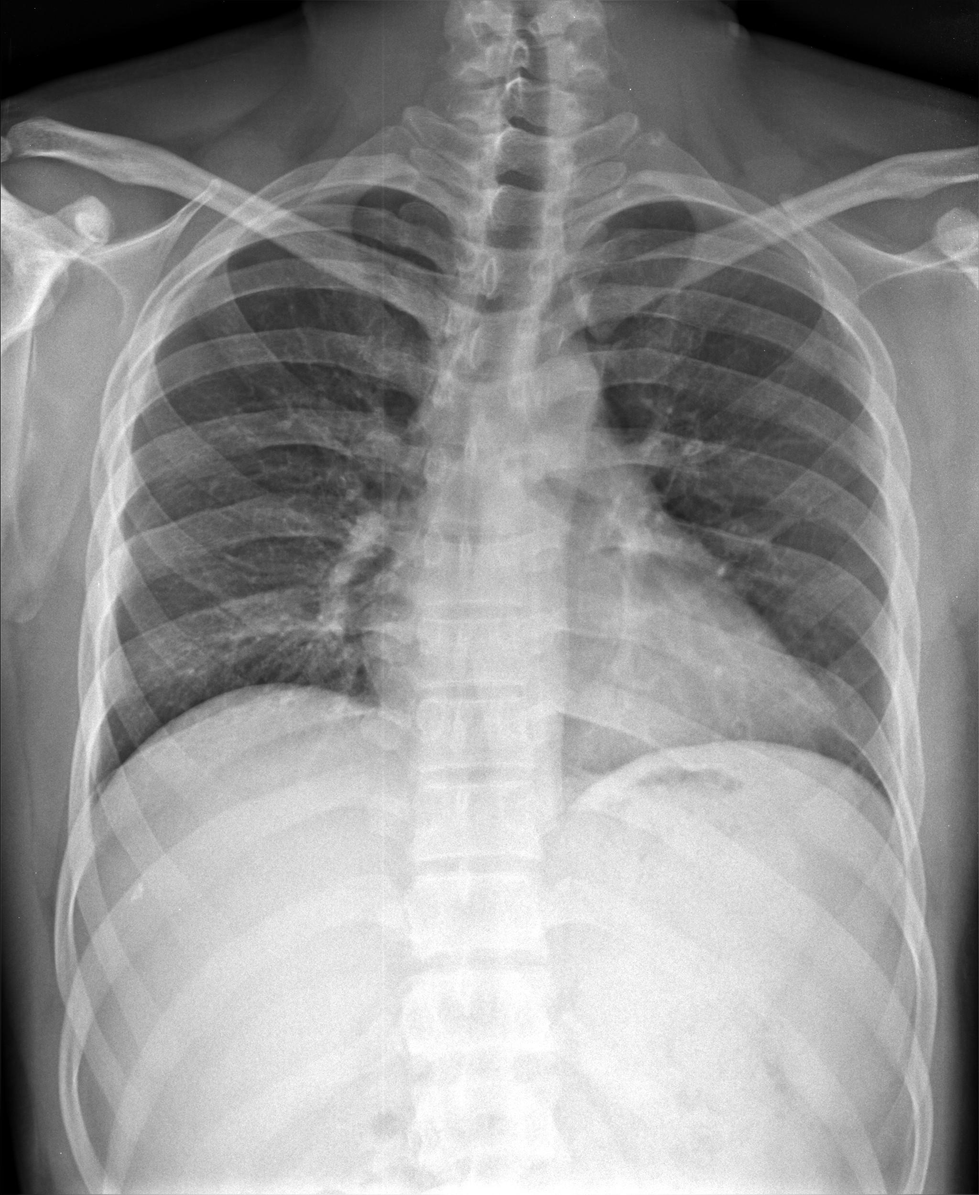Cardiomegaly: (366, 581, 837, 770)
